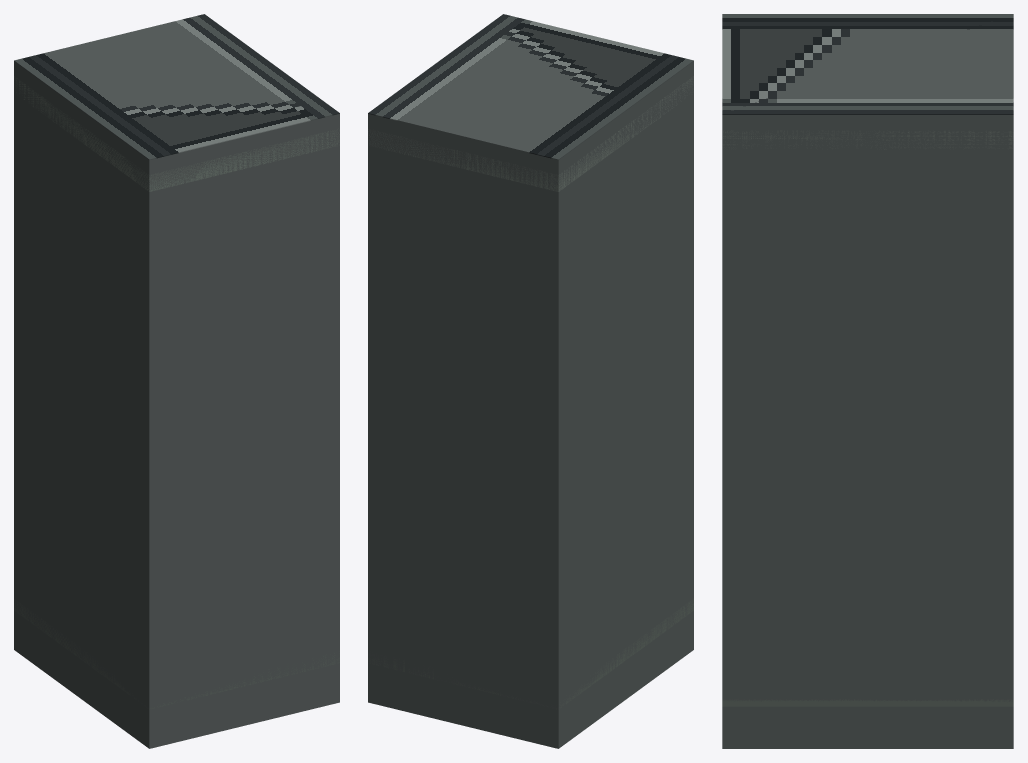
The model's file is CMU3DInteriorVehicleAPCExterior1.glb.
The picture shows the model from 3 angles, left to right: view 1: azimuth 30°, elevation 25°; view 2: azimuth 150°, elevation 25°; view 3: azimuth 270°, elevation 25°; orthographic projection. The views are drawn at different scales.
Visible parts, largest first — view 1: cabin bulkhead, cabin bulkhead source finish, upper armor trim, lower armor trim; view 2: cabin bulkhead, cabin bulkhead source finish, upper armor trim, lower armor trim; view 3: cabin bulkhead, cabin bulkhead source finish, lower armor trim, upper armor trim.
Part boxes in pixels (<box>): cabin bulkhead: <box>14,61,339,748</box>; cabin bulkhead source finish: <box>14,14,339,160</box>; upper armor trim: <box>14,76,339,191</box>; lower armor trim: <box>14,599,339,709</box>; cabin bulkhead: <box>368,61,693,748</box>; cabin bulkhead source finish: <box>368,14,693,160</box>; upper armor trim: <box>368,76,693,191</box>; lower armor trim: <box>368,598,693,709</box>; cabin bulkhead: <box>722,115,1013,748</box>; cabin bulkhead source finish: <box>722,14,1013,114</box>; lower armor trim: <box>722,699,1013,706</box>; upper armor trim: <box>723,130,1013,149</box>.
Bounding box in the file's own units: 0.8125 × 2.4 × 1.
Materials: 4 (1 with a texture image).
